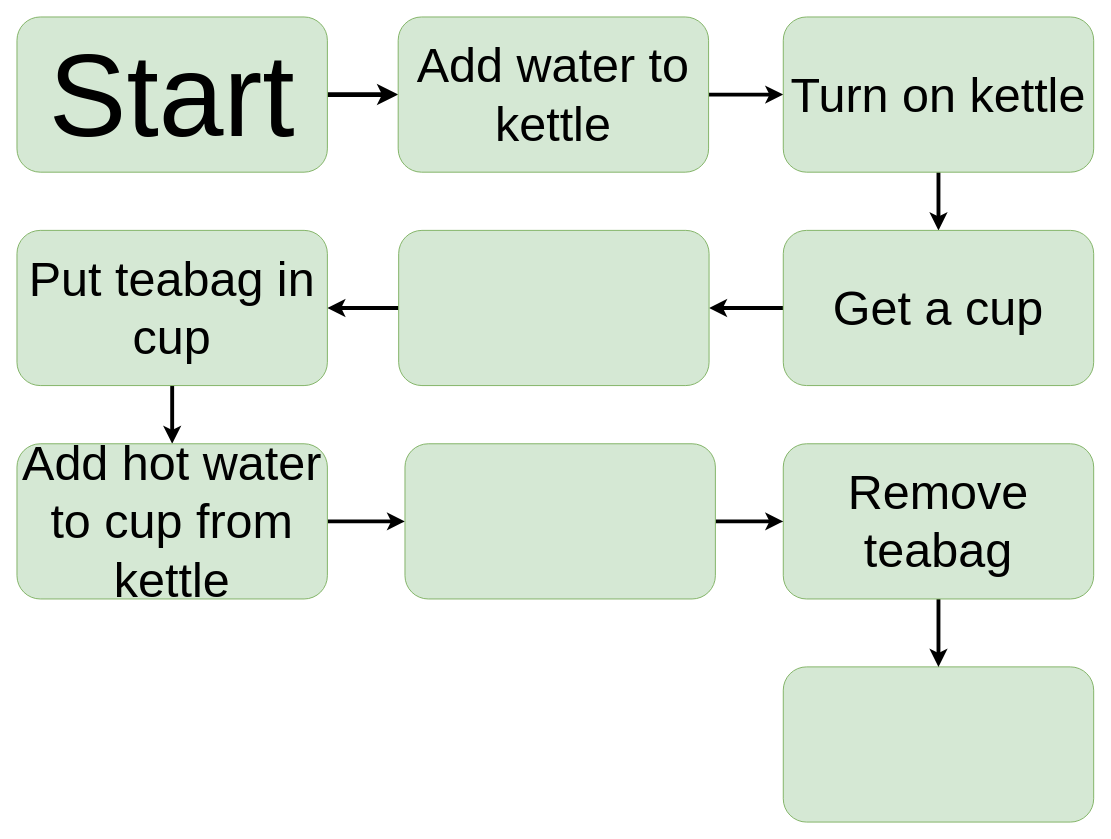
The diagram is 1111 pixels wide and 839 high, and some of its shapes have lost their labels. Here are the shapes that lost their labels. From the top down, the centre of each, then its label:
[553,307]: Get a teabag
[559,521]: Wait 1 minute
[938,744]: End
